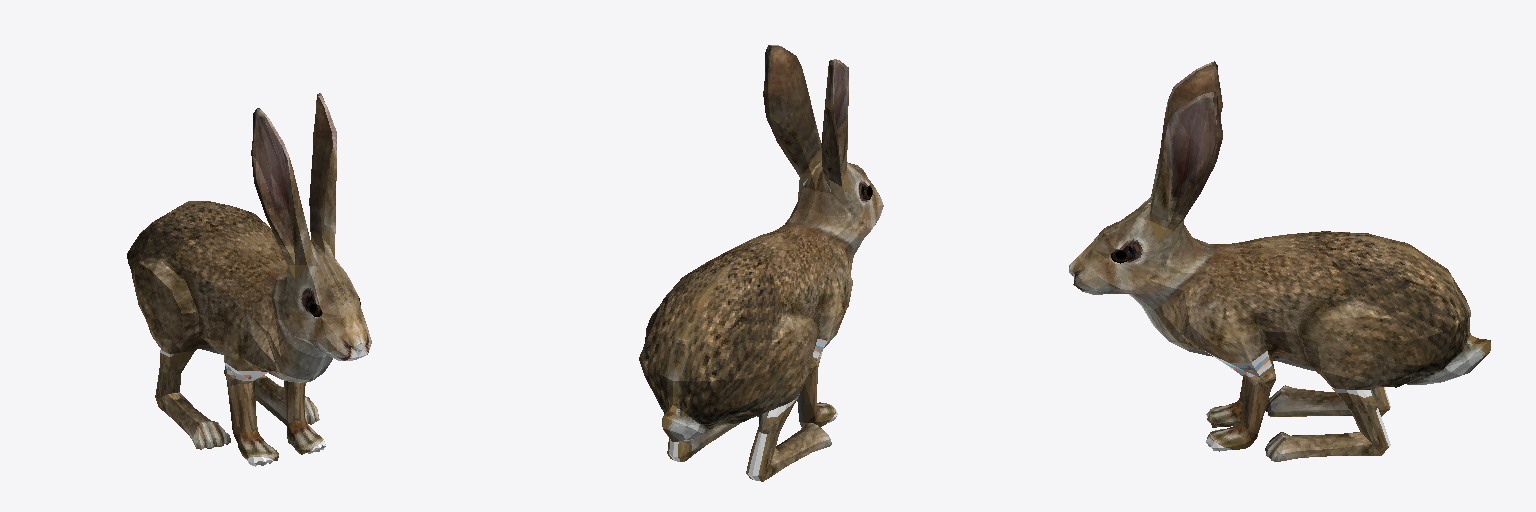
The picture shows the model from 3 angles: view 1: azimuth 30°, elevation 25°; view 2: azimuth 150°, elevation 25°; view 3: azimuth 270°, elevation 25°; orthographic projection.
Size of the model in its own units: 0.464 by 1.17 by 1.25.
1 materials, 1 textured.